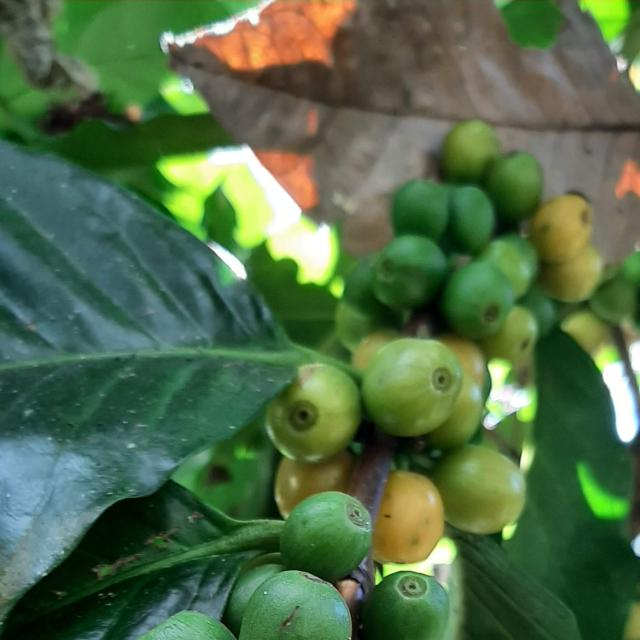green: (279, 492, 373, 583), (239, 572, 352, 640), (440, 261, 515, 340), (363, 572, 449, 640), (374, 236, 449, 310), (222, 565, 285, 638), (486, 151, 544, 223), (480, 234, 539, 299), (443, 185, 496, 254), (392, 180, 450, 240), (137, 612, 236, 640)
red: (373, 471, 445, 565)
yellow: (362, 339, 463, 437), (265, 364, 362, 463), (433, 446, 526, 535), (274, 450, 353, 519), (531, 194, 594, 263), (428, 375, 484, 450), (441, 119, 501, 181), (540, 245, 604, 302), (481, 306, 540, 365)
